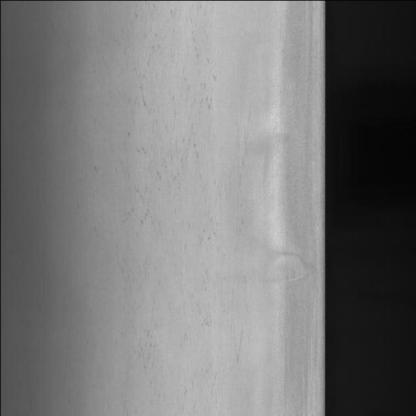silk_spot: (108, 13, 230, 248)
